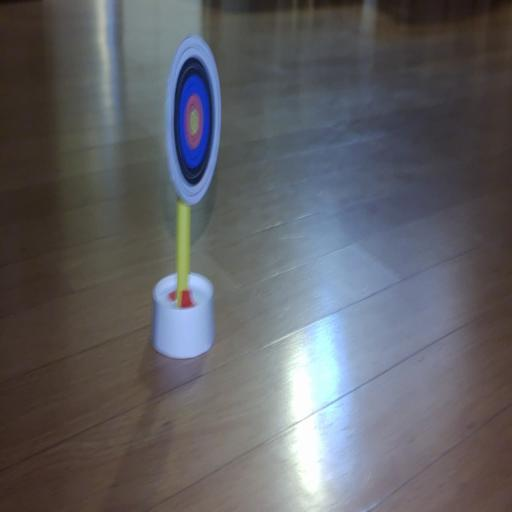target: (166, 36, 221, 204)
